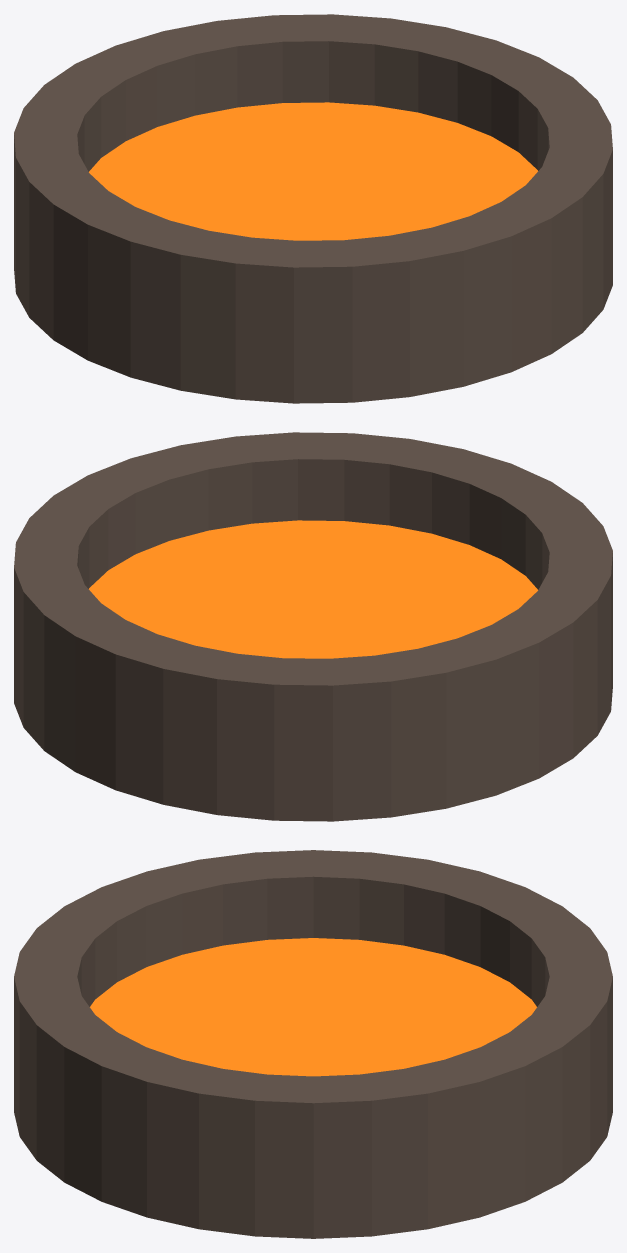
File: forge_pit.glb
3 views of the same model, one above another, from view 1: azimuth 30°, elevation 25°; view 2: azimuth 150°, elevation 25°; view 3: azimuth 270°, elevation 25° (orthographic).
Visible parts, largest first — view 1: Bricks, lava; view 2: Bricks, lava; view 3: Bricks, lava.
Boxes of the visible parts, left/top/right/bottom form: Bricks: left=14, top=14, right=612, bottom=403; lava: left=89, top=102, right=537, bottom=240; Bricks: left=14, top=432, right=612, bottom=821; lava: left=89, top=520, right=537, bottom=658; Bricks: left=14, top=850, right=612, bottom=1238; lava: left=90, top=938, right=536, bottom=1076.
Size of the model in its own units: 2 by 0.5 by 2.
